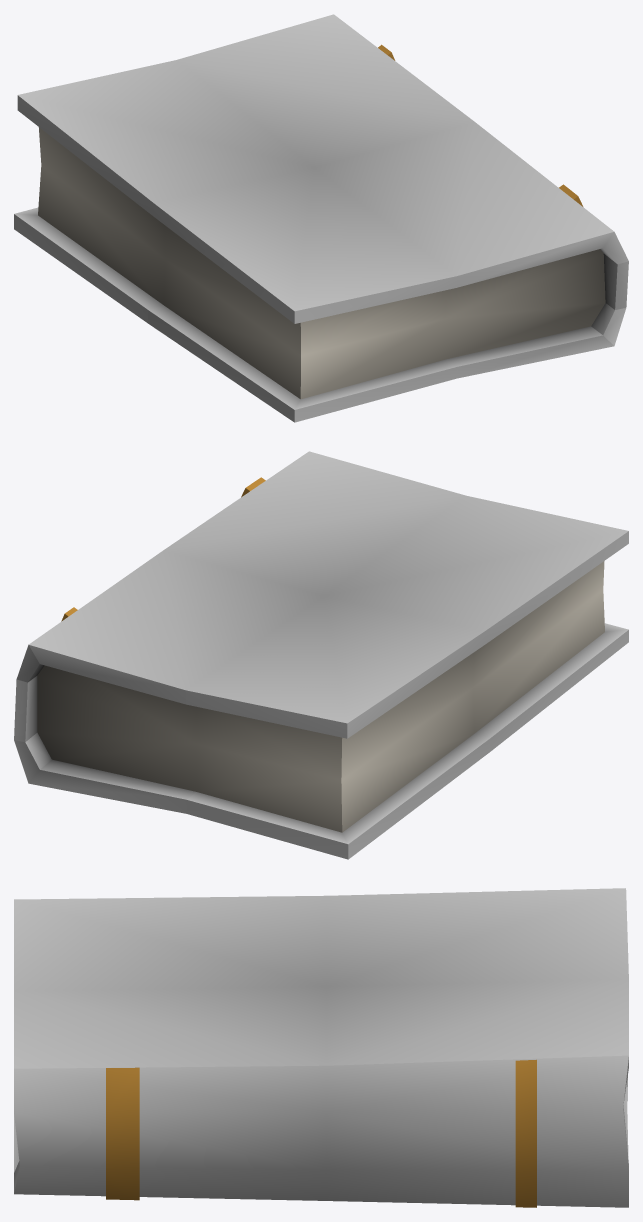
File: obj_bookClosed_A_LOW.FBX
The picture shows the model from 3 angles, top to bottom: view 1: azimuth 30°, elevation 25°; view 2: azimuth 150°, elevation 25°; view 3: azimuth 270°, elevation 25°; orthographic projection. The views are drawn at different scales.
Visible parts, largest first — view 1: obj_bookClosed_A_LOW; view 2: obj_bookClosed_A_LOW; view 3: obj_bookClosed_A_LOW.
Part boxes in pixels (x1,y1,x2,y2): obj_bookClosed_A_LOW: (14, 14, 628, 422); obj_bookClosed_A_LOW: (14, 451, 628, 859); obj_bookClosed_A_LOW: (14, 888, 628, 1207).
Bounding box in the file's own units: 0.7882 × 0.3033 × 1.11.
